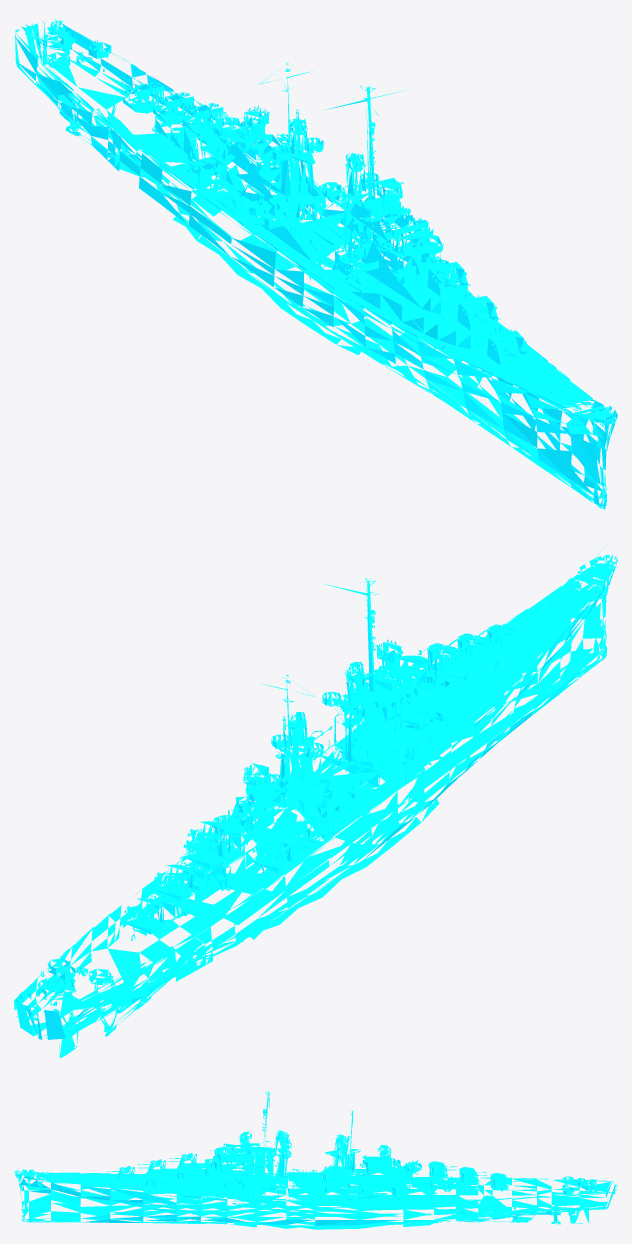
Rendered from PASC006.glb.
3 views of the same model, one above another, from view 1: azimuth 30°, elevation 25°; view 2: azimuth 150°, elevation 25°; view 3: azimuth 270°, elevation 25° (orthographic). The views are drawn at different scales.
Visible parts, largest first — view 1: hull, turret; view 2: hull, turret; view 3: hull, turret.
Boxes of the visible parts, x1=… form: hull: x1=14, y1=14, x2=617, y2=510; turret: x1=121, y1=78, x2=530, y2=365; hull: x1=14, y1=545, x2=617, y2=1058; turret: x1=120, y1=620, x2=530, y2=934; hull: x1=14, y1=1091, x2=617, y2=1229; turret: x1=107, y1=1153, x2=518, y2=1198.
Bounding box in the file's own units: 1.1 × 2.66 × 11.05.
